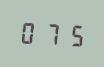five: (63, 20, 84, 48)
seven: (41, 19, 62, 47)
zero: (18, 18, 39, 46)
